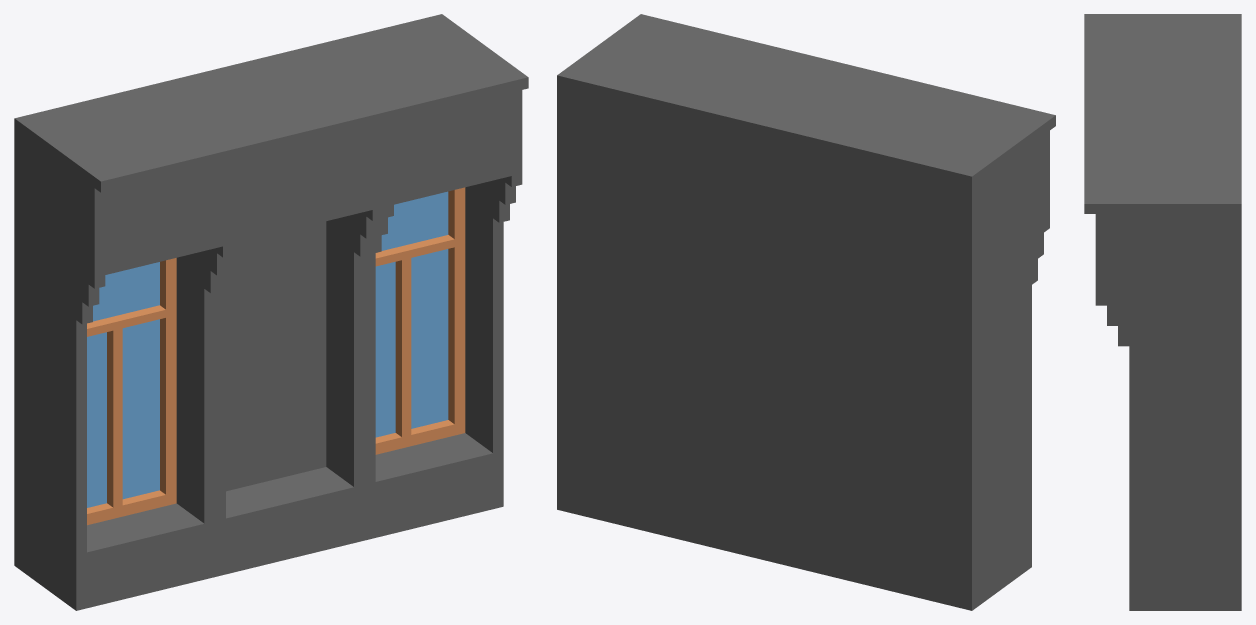
Rendered from factory_wall_top.fbx.
3 views of the same model, side by side, from view 1: azimuth 30°, elevation 25°; view 2: azimuth 150°, elevation 25°; view 3: azimuth 270°, elevation 25° (orthographic). The views are drawn at different scales.
Parts seen in each view (by area): view 1: factory_wall_top; view 2: factory_wall_top; view 3: factory_wall_top.
Boxes of the visible parts, x1=… form: factory_wall_top: x1=14, y1=14, x2=528, y2=610; factory_wall_top: x1=557, y1=14, x2=1055, y2=610; factory_wall_top: x1=1084, y1=14, x2=1241, y2=610.
Bounding box in the file's own units: 400 × 400 × 140.
